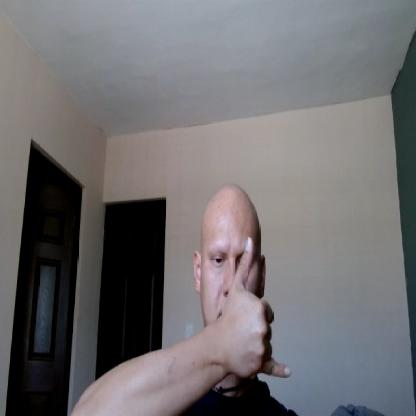Y: (221, 237, 292, 384)
